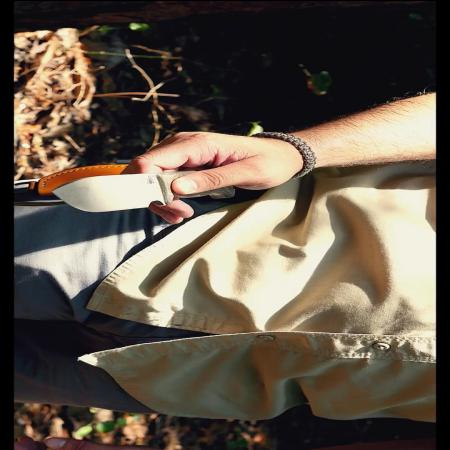long weapon: (41, 142, 227, 224)
